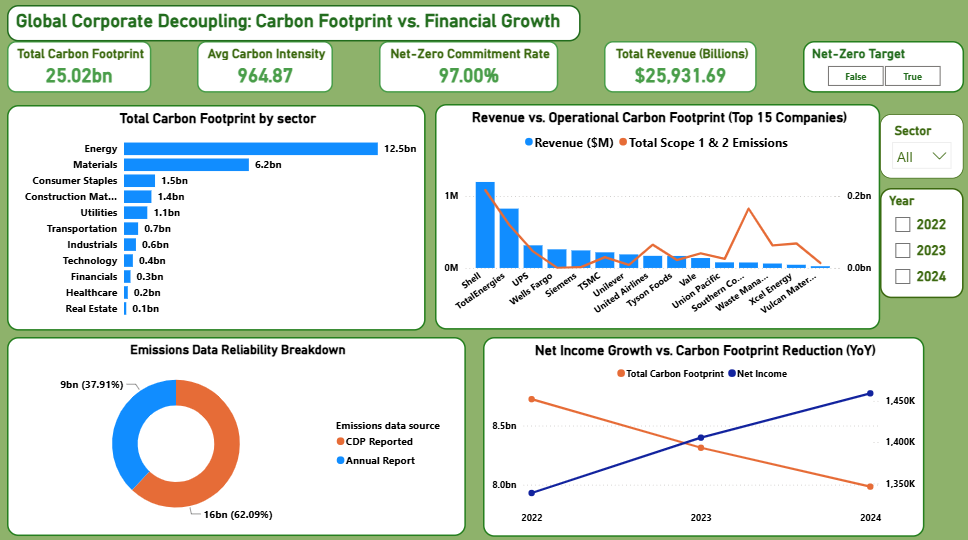

The page's visual inventory and layout, read from the dashboard file:
{"tool":"powerbi","page":{"name":"Page 1","canvas":[1280,720],"ordinal":0},"visuals":[{"type":"card","title":"Total Carbon Footprint","fields":{"Values":["ghg_financial_global_2022_2024_clean.Total GHG"]},"box":[14.3,58.5,189.8,68.5],"z":0},{"type":"card","title":"Avg Carbon Intensity","fields":{"Values":["ghg_financial_global_2022_2024_clean.Avg Carbon Intensity"]},"box":[264.2,58.1,179.4,68.4],"z":1000},{"type":"card","fields":{"Values":["ghg_financial_global_2022_2024_clean.•Net-Zero Commitment Rate"]},"box":[503.9,58.1,236.1,68.4],"z":2000},{"type":"card","title":"Total Revenue (Billions)","fields":{"Values":["ghg_financial_global_2022_2024_clean.Total Portfolio Revenue"]},"box":[800.3,58.1,201.3,68.4],"z":3000},{"type":"slicer","title":"Year","fields":{"Values":["ghg_financial_global_2022_2024_clean.year"]},"box":[1163.9,251.6,109.7,144.5],"z":4000},{"type":"barChart","fields":{"Category":["ghg_financial_global_2022_2024_clean.sector","ghg_financial_global_2022_2024_clean.industry","ghg_financial_global_2022_2024_clean.company_name"],"Y":["ghg_financial_global_2022_2024_clean.Total Carbon Footprint"]},"box":[14.2,141.9,551,296.8],"z":5000},{"type":"lineStackedColumnComboChart","title":"Revenue vs. Operational Carbon Footprint (Top 15 Companies)","fields":{"Category":["ghg_financial_global_2022_2024_clean.company_name"],"Y":["Sum(ghg_financial_global_2022_2024_clean.revenue_usd_m)"],"Y2":["ghg_financial_global_2022_2024_clean.Total Scope 1 & 2 Emissions"]},"box":[577.9,141.3,586.5,296.8],"z":6000},{"type":"lineChart","title":"Net Income Growth vs. Carbon Footprint Reduction (YoY)","fields":{"Category":["ghg_financial_global_2022_2024_clean.year"],"Y":["ghg_financial_global_2022_2024_clean.Total Carbon Footprint"],"Y2":["Sum(ghg_financial_global_2022_2024_clean.net_income_usd_m)"]},"box":[640.7,448.1,580.8,262.6],"z":7000},{"type":"donutChart","title":"Emissions Data Reliability Breakdown","fields":{"Category":["ghg_financial_global_2022_2024_clean.emissions_data_source"],"Y":["ghg_financial_global_2022_2024_clean.Total Carbon Footprint"]},"box":[14.2,447.7,603.9,261.9],"z":8000},{"type":"slicer","fields":{"Values":["ghg_financial_global_2022_2024_clean.sector"]},"box":[1163.9,153.5,109.7,85.2],"z":9000},{"type":"slicer","title":"Net-Zero Target","fields":{"Values":["ghg_financial_global_2022_2024_clean.has_net_zero_target"]},"box":[1061.9,58.1,211.6,68.4],"z":10000},{"type":"textbox","title":"Global Corporate Decoupling: Carbon Footprint vs. Financial Growth","box":[14.2,10.3,754.8,47.7],"z":11000}]}

Visuals, with their boxes in screenshot pixels (x1, y1, x2, y2), scaled from the page's 1280x720 canvas onto the 968x540 screenshot:
"Total Carbon Footprint" card: Rect(11, 44, 154, 95)
"Avg Carbon Intensity" card: Rect(200, 44, 335, 95)
card - ghg_financial_global_2022_2024_clean.•Net-Zero Commitment Rate: Rect(381, 44, 560, 95)
"Total Revenue (Billions)" card: Rect(605, 44, 757, 95)
"Year" slicer: Rect(880, 189, 963, 297)
barChart - ghg_financial_global_2022_2024_clean.sector x ghg_financial_global_2022_2024_clean.industry: Rect(11, 106, 427, 329)
"Revenue vs. Operational Carbon Footprint (Top 15 Companies)" lineStackedColumnComboChart: Rect(437, 106, 881, 329)
"Net Income Growth vs. Carbon Footprint Reduction (YoY)" lineChart: Rect(485, 336, 924, 533)
"Emissions Data Reliability Breakdown" donutChart: Rect(11, 336, 467, 532)
slicer - ghg_financial_global_2022_2024_clean.sector: Rect(880, 115, 963, 179)
"Net-Zero Target" slicer: Rect(803, 44, 963, 95)
"Global Corporate Decoupling: Carbon Footprint vs. Financial Growth" textbox: Rect(11, 8, 582, 44)
